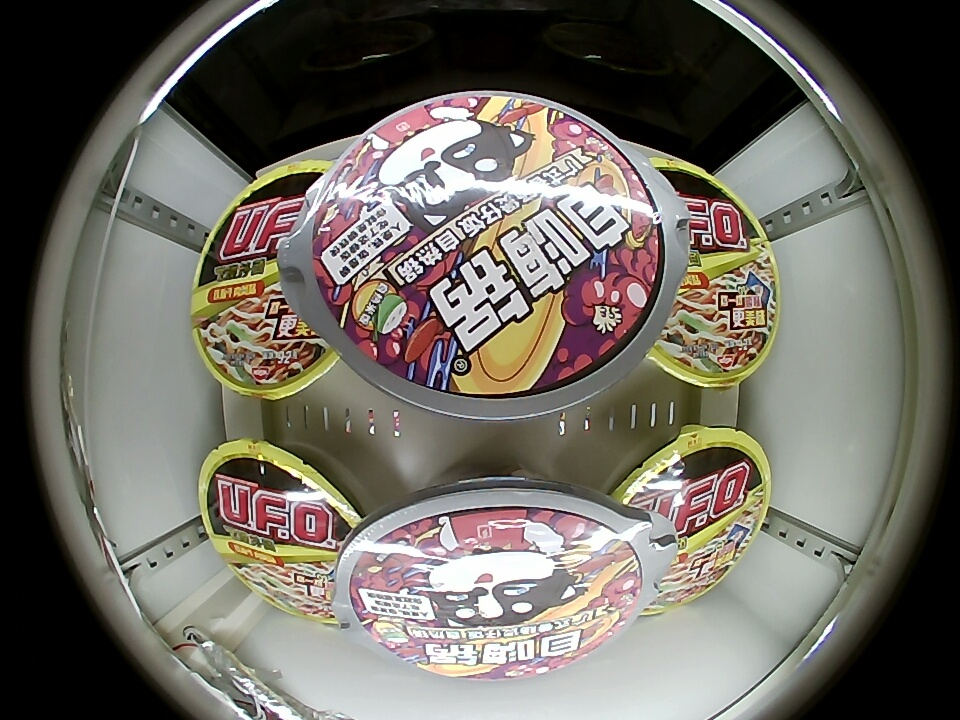ufo: (190, 159, 341, 400), (647, 158, 780, 386), (199, 440, 357, 628), (613, 428, 771, 614)
zihaiguo: (310, 96, 664, 396), (349, 508, 643, 678)
